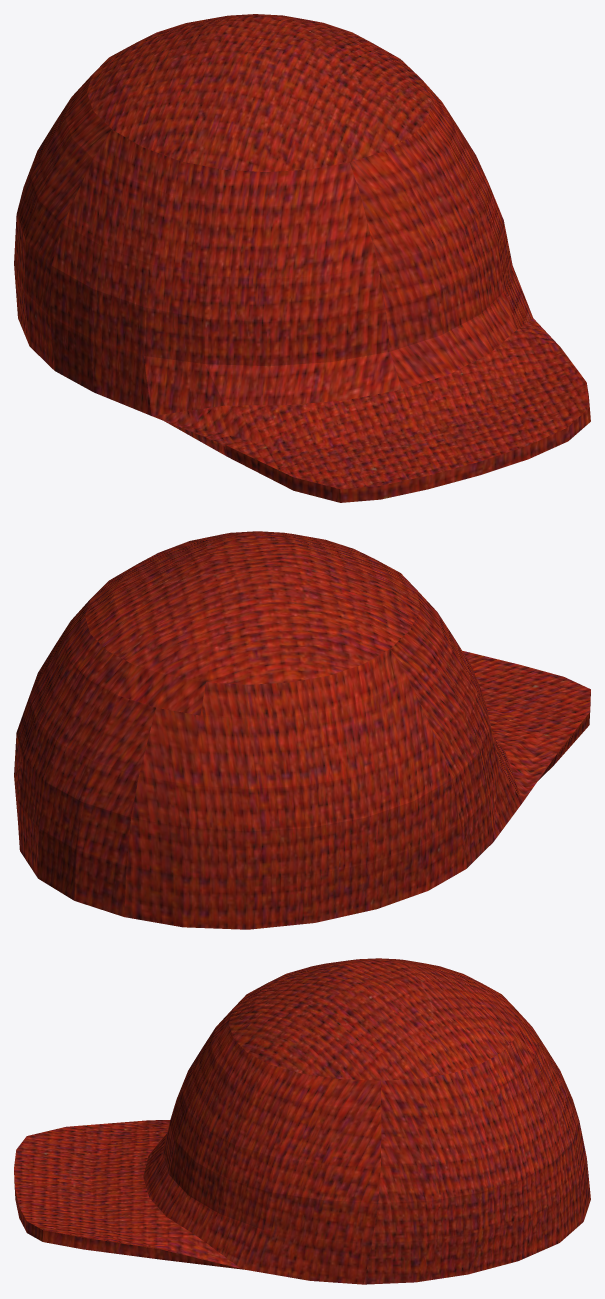
Rendered from Cap 02 .fbx.
3 renders of one model, top to bottom at view 1: azimuth 30°, elevation 25°; view 2: azimuth 150°, elevation 25°; view 3: azimuth 270°, elevation 25°, orthographic. The views are drawn at different scales.
Visible parts, largest first — view 1: Hat02; view 2: Hat02; view 3: Hat02.
Boxes of the visible parts, <box> form: Hat02: <box>14,14,590,502</box>; Hat02: <box>14,531,590,929</box>; Hat02: <box>14,958,590,1284</box>.
Bounding box in the file's own units: 31.65 × 19.95 × 45.77.
Materials: 1 (1 with a texture image).
